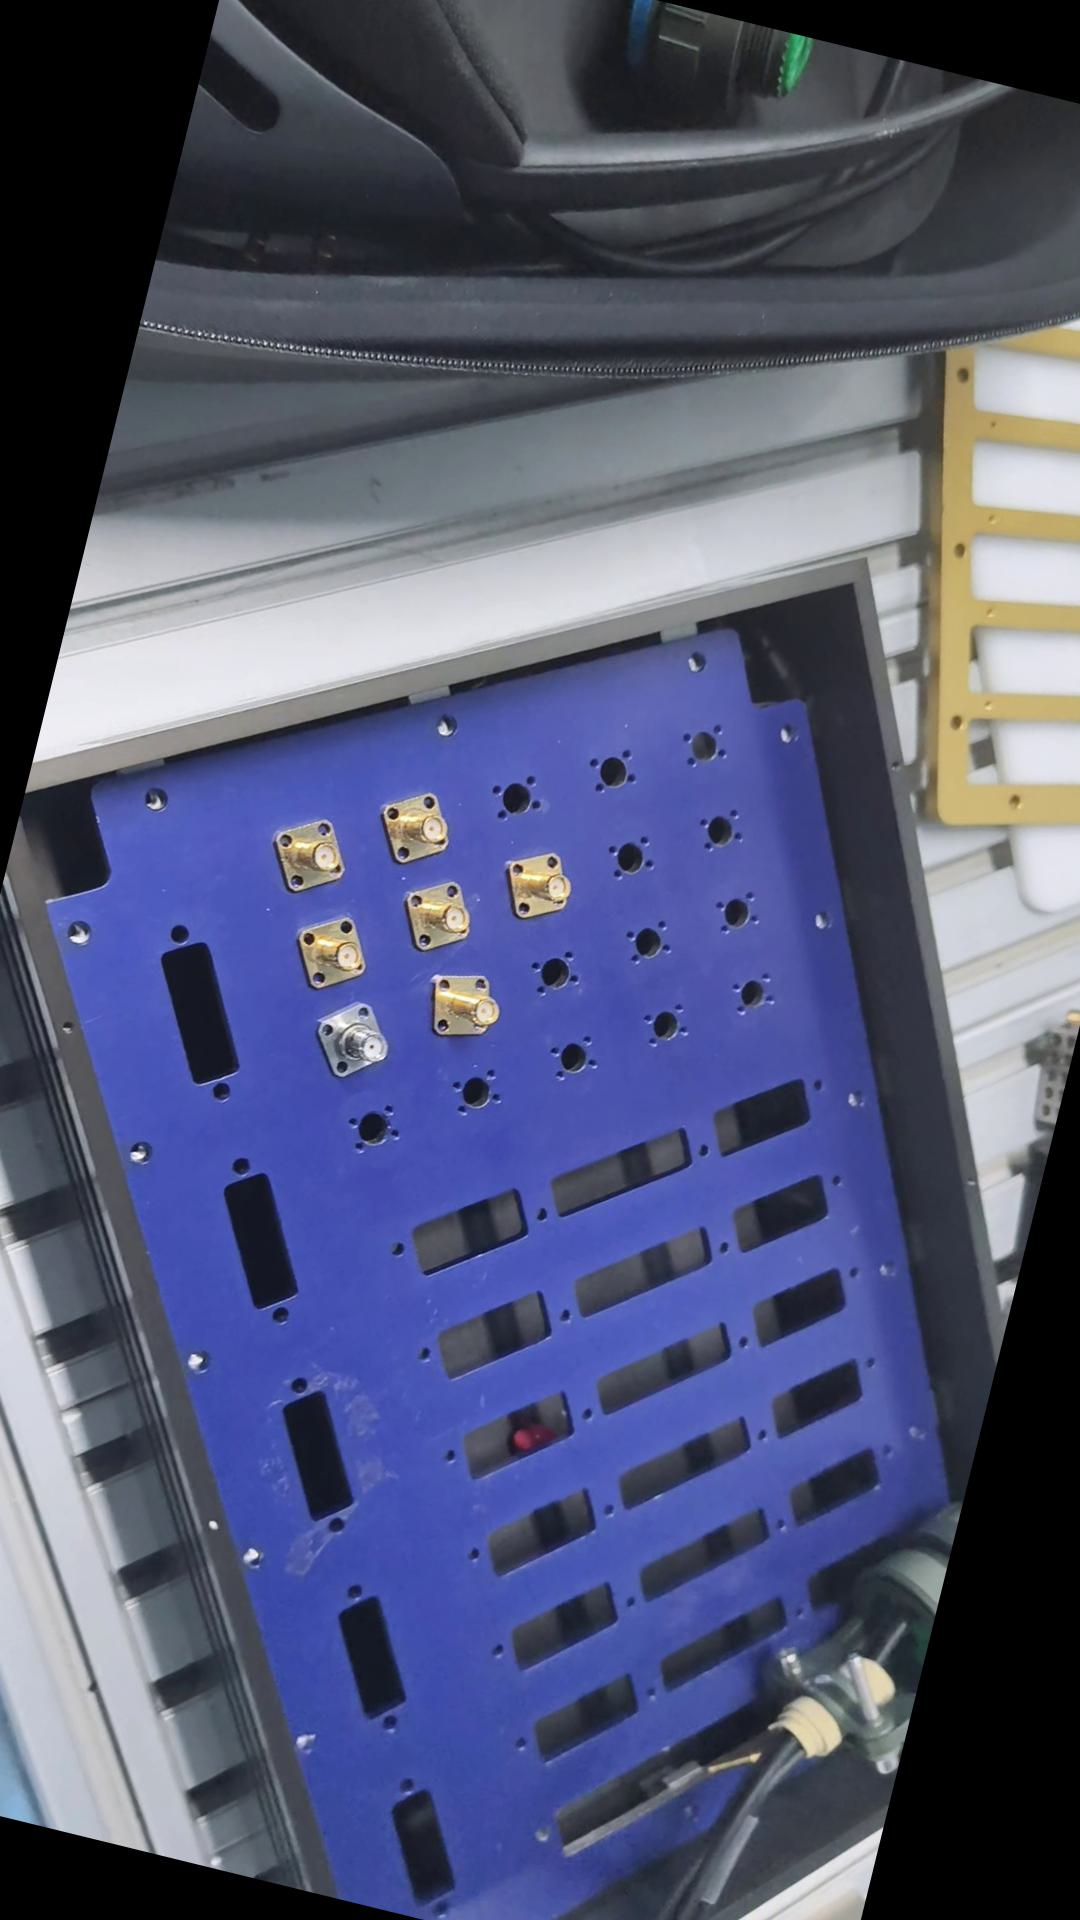SMA: (306, 989, 405, 1087), (388, 866, 487, 963), (491, 839, 585, 934), (262, 812, 360, 901), (423, 960, 516, 1052), (285, 906, 380, 996), (375, 781, 465, 873)
